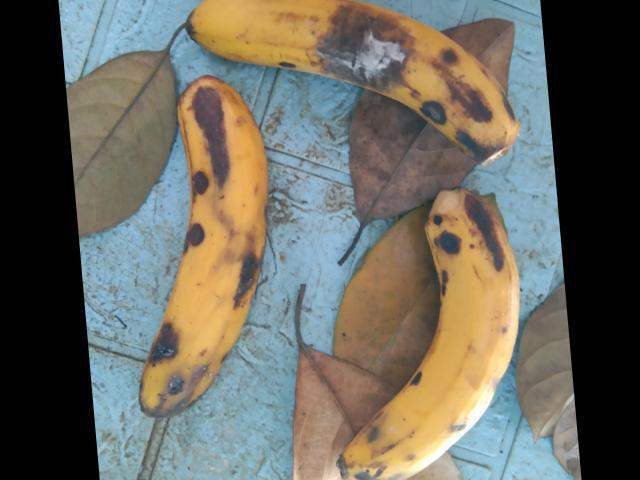overripe: (331, 174, 538, 479), (172, 0, 538, 162), (124, 69, 272, 432)
rotten: (302, 0, 424, 115)
